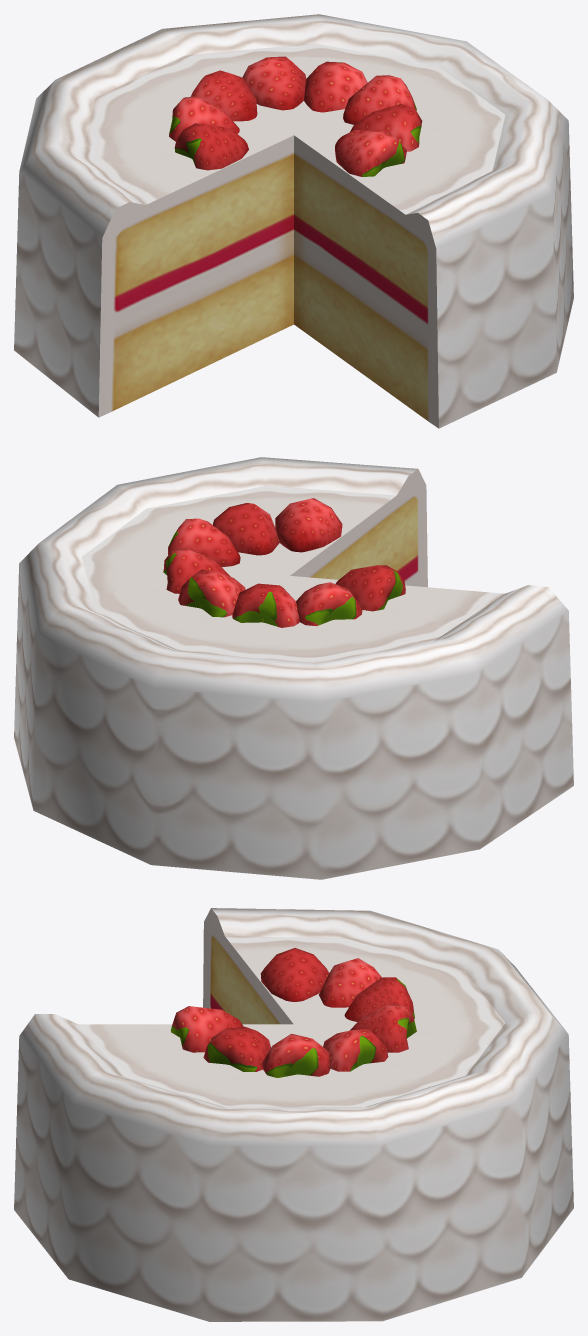
The model's file is Shortcake_Cut.fbx.
The picture shows the model from 3 angles, top to bottom: view 1: azimuth 30°, elevation 25°; view 2: azimuth 150°, elevation 25°; view 3: azimuth 270°, elevation 25°; orthographic projection. The views are drawn at different scales.
Visible parts, largest first — view 1: Shortcake_Cut; view 2: Shortcake_Cut; view 3: Shortcake_Cut.
Part boxes in pixels (x1,y1,x2,y2): Shortcake_Cut: [14, 14, 573, 428]; Shortcake_Cut: [14, 457, 573, 879]; Shortcake_Cut: [14, 908, 573, 1321].
Size of the model in its own units: 80.19 by 35.87 by 83.13.
